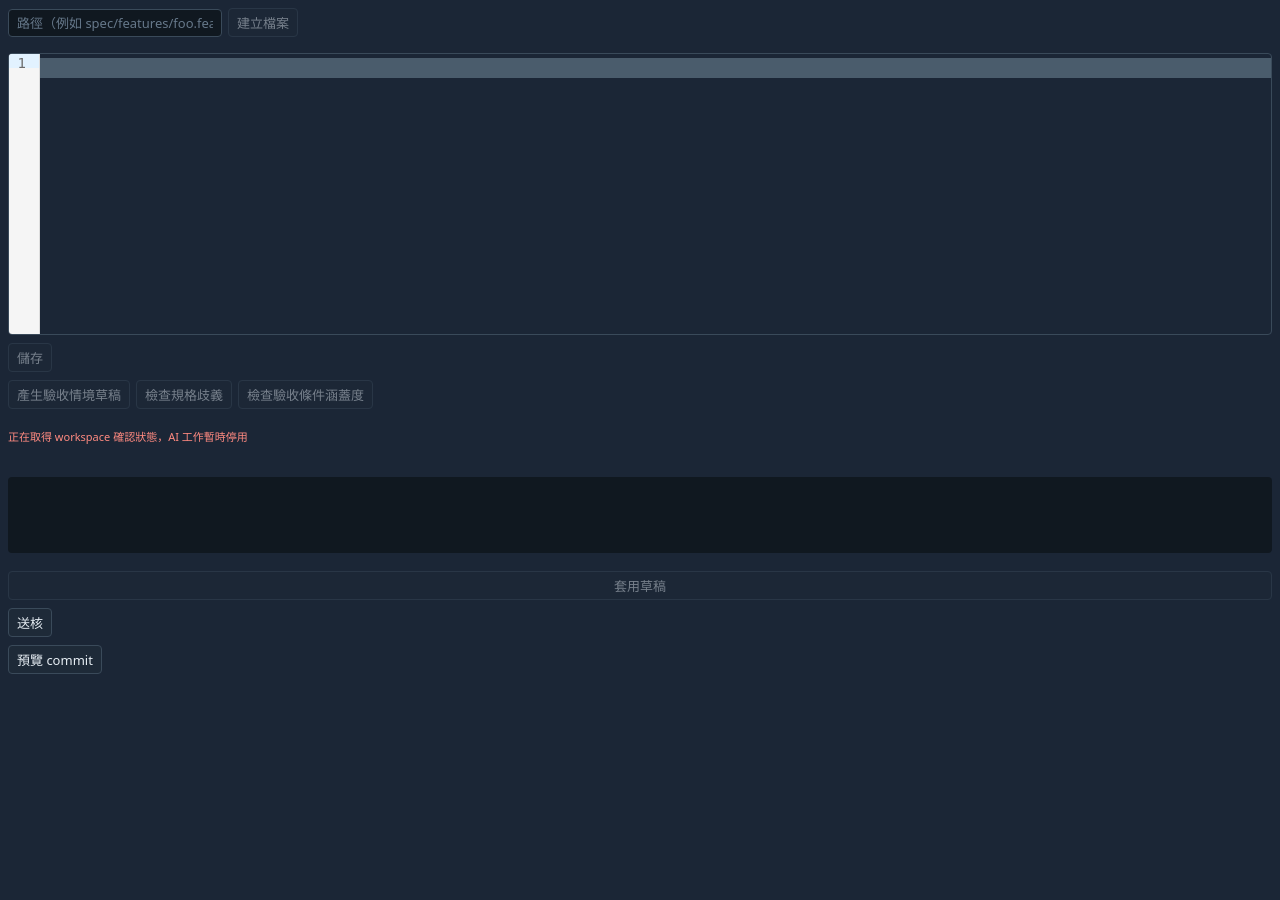
Test: SpecWorkspace 新增檔案 › scope 外路徑即時提示，送出 disabled
Step 1. Type "spec/other/x.feature" into the field with test id "new-file-path" → coordinates (115, 22), box x1=8 y1=8 x2=222 y2=36
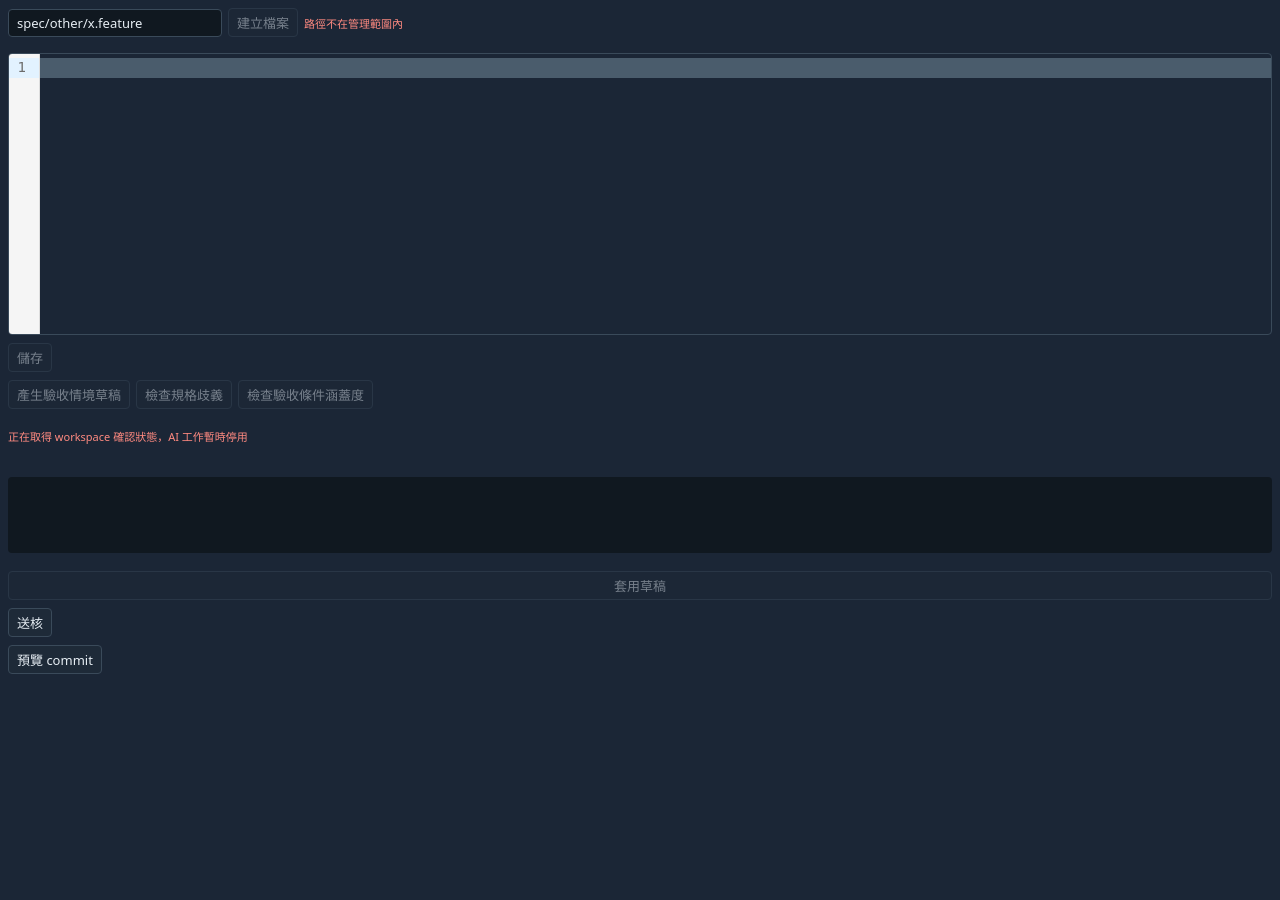
Expected: the button with test id "new-file-submit" is disabled, x1=228 y1=8 x2=298 y2=37
Expected: the text "路徑不在管理範圍內" is shown, x1=304 y1=14 x2=403 y2=30
